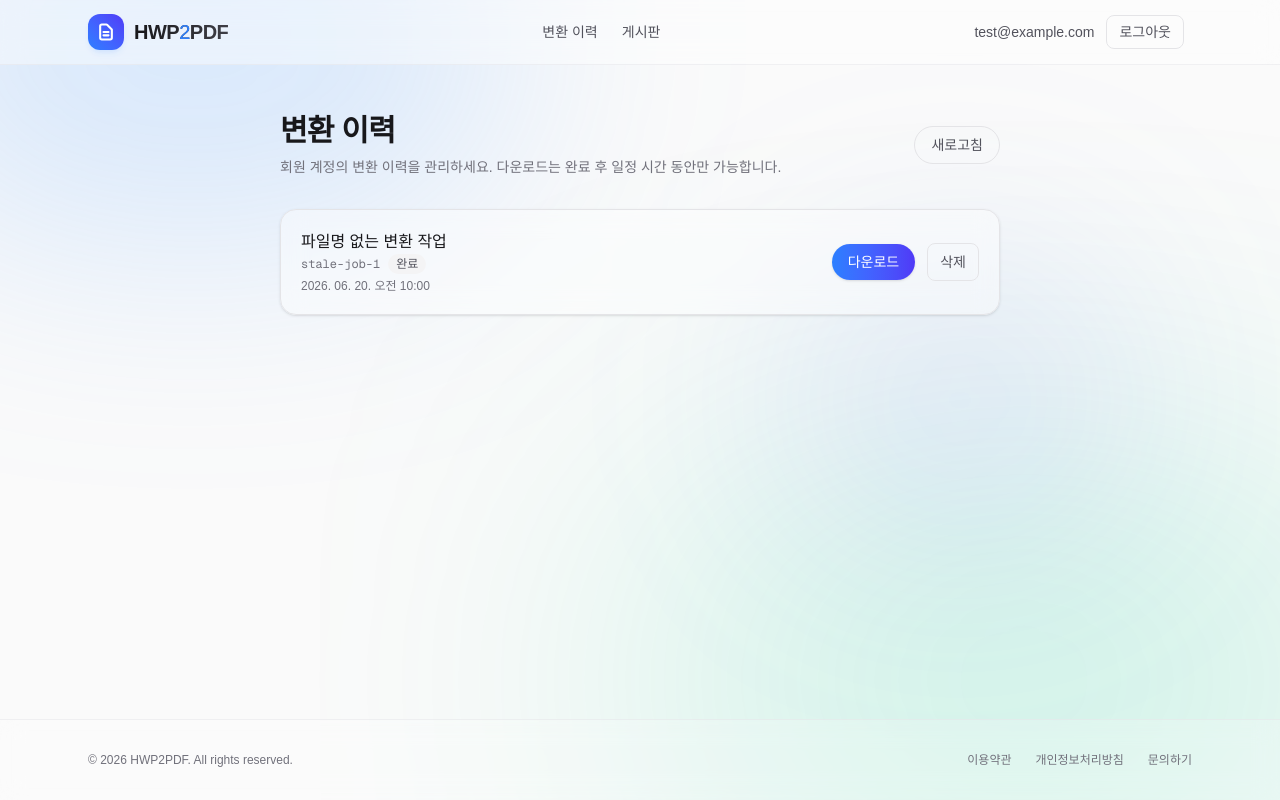
Test case: HistoryPage › keeps stale list visible with warning when refresh fails
Expected: the text "stale-job-1" is shown, [301,256,380,272]
Note: Click retry/refresh button
Step 1. Click the button with test id "history-refresh-button" → (957,145), box [914,126,1000,164]
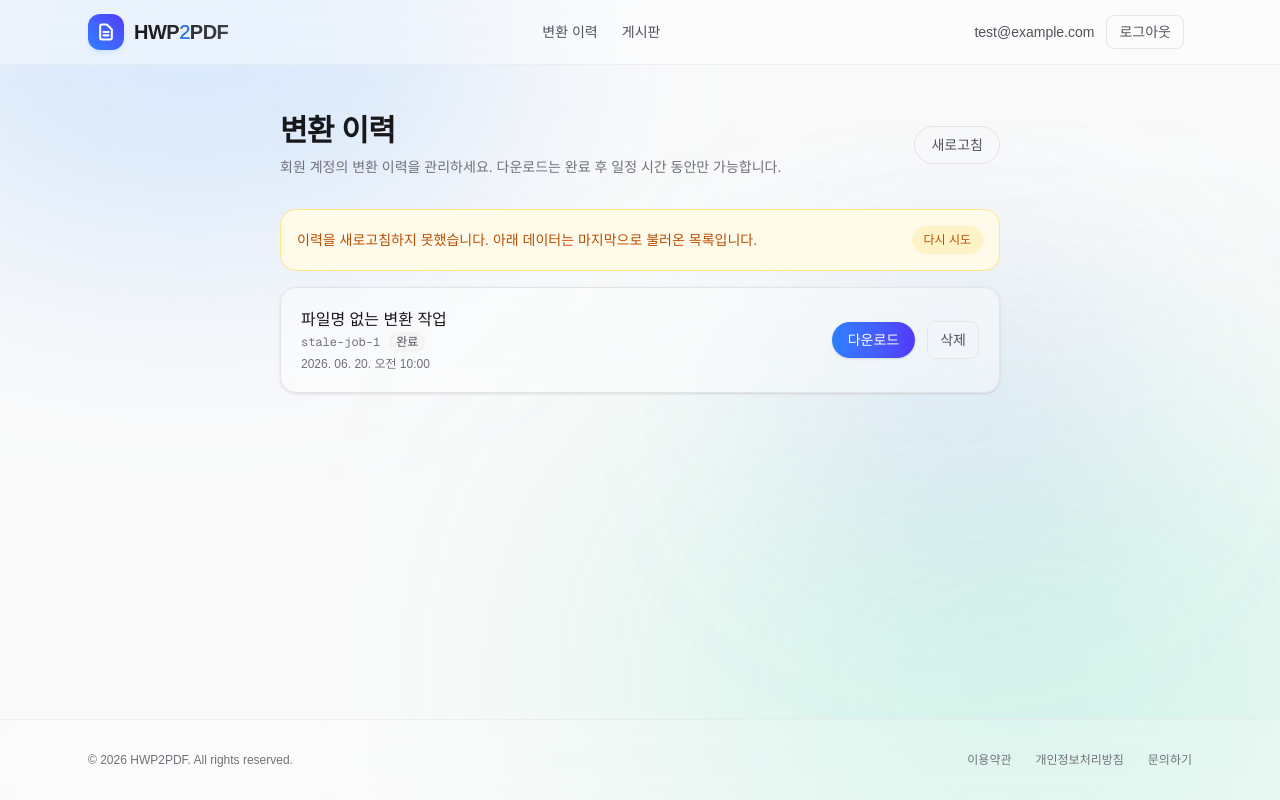
Expected: the text "stale-job-1" is shown, [301,334,380,350]
Now the message "이력을 새로고침하지 못했습니다. 아래 데이터는 마지막으로 불러온 목록입니다. 다시 시도" is shown, box [280,209,1000,271]
